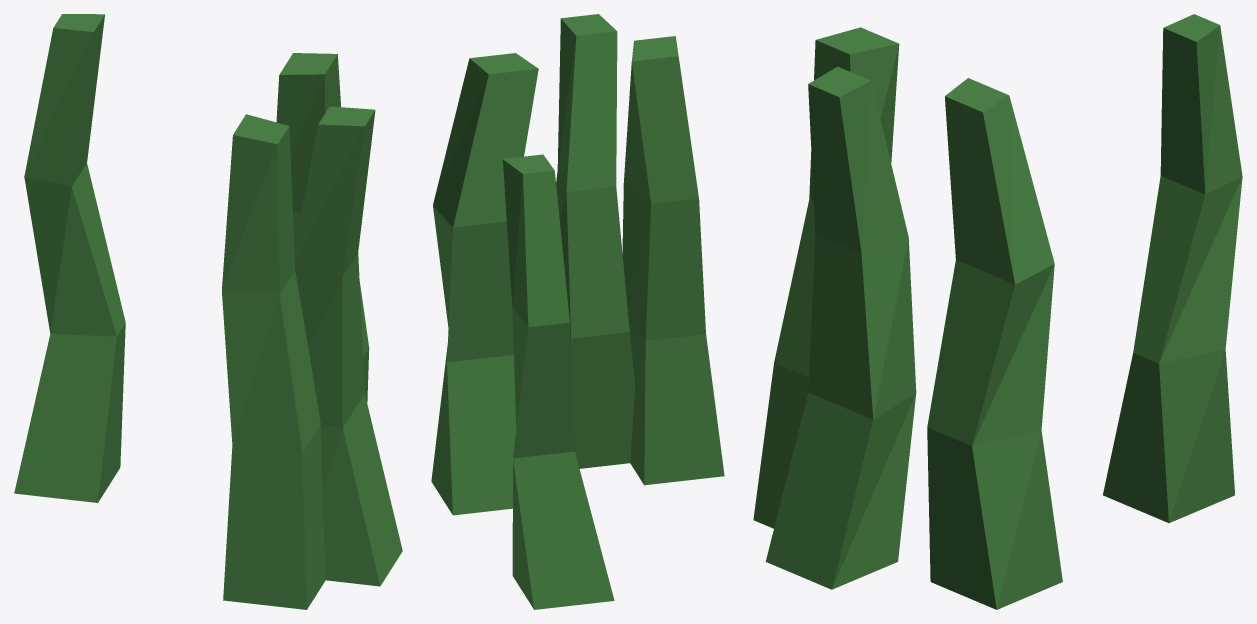
File: grass.fbx
3 renders of one model, left to right at view 1: azimuth 30°, elevation 25°; view 2: azimuth 150°, elevation 25°; view 3: azimuth 270°, elevation 25°, orthographic. The views are drawn at different scales.
Visible parts, largest first — view 1: Merged; view 2: Merged; view 3: Merged.
Boxes of the visible parts, box(x1,y1,x2,y2) form: Merged: box(14, 14, 402, 609); Merged: box(431, 14, 724, 609); Merged: box(753, 14, 1242, 609).
Size of the model in its own units: 38.23 by 60 by 55.41.
